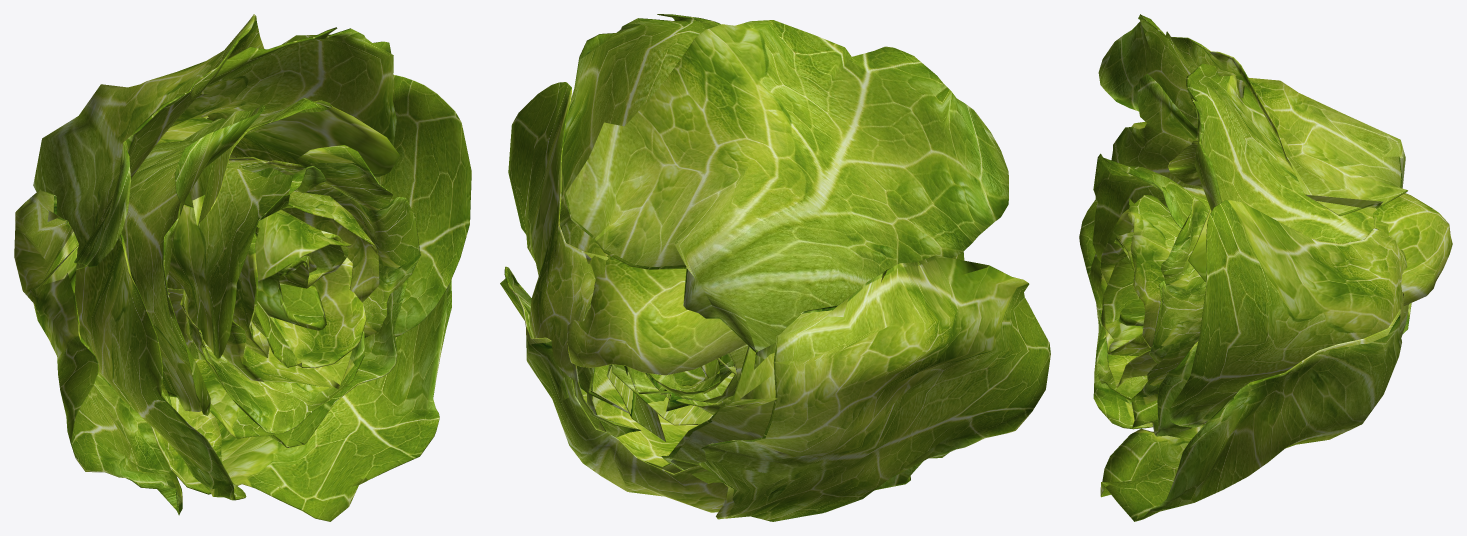
File: lattuga1.obj
The picture shows the model from 3 angles, left to right: view 1: azimuth 30°, elevation 25°; view 2: azimuth 150°, elevation 25°; view 3: azimuth 270°, elevation 25°; orthographic projection. The views are drawn at different scales.
Visible parts, largest first — view 1: plant_Plane.011; view 2: plant_Plane.011; view 3: plant_Plane.011.
Boxes of the visible parts, x1,y1,x2,y2 form: plant_Plane.011: (14, 14, 471, 521); plant_Plane.011: (500, 14, 1050, 521); plant_Plane.011: (1079, 14, 1452, 521).
Bounding box in the file's own units: 0.3263 × 0.3194 × 0.2465.
